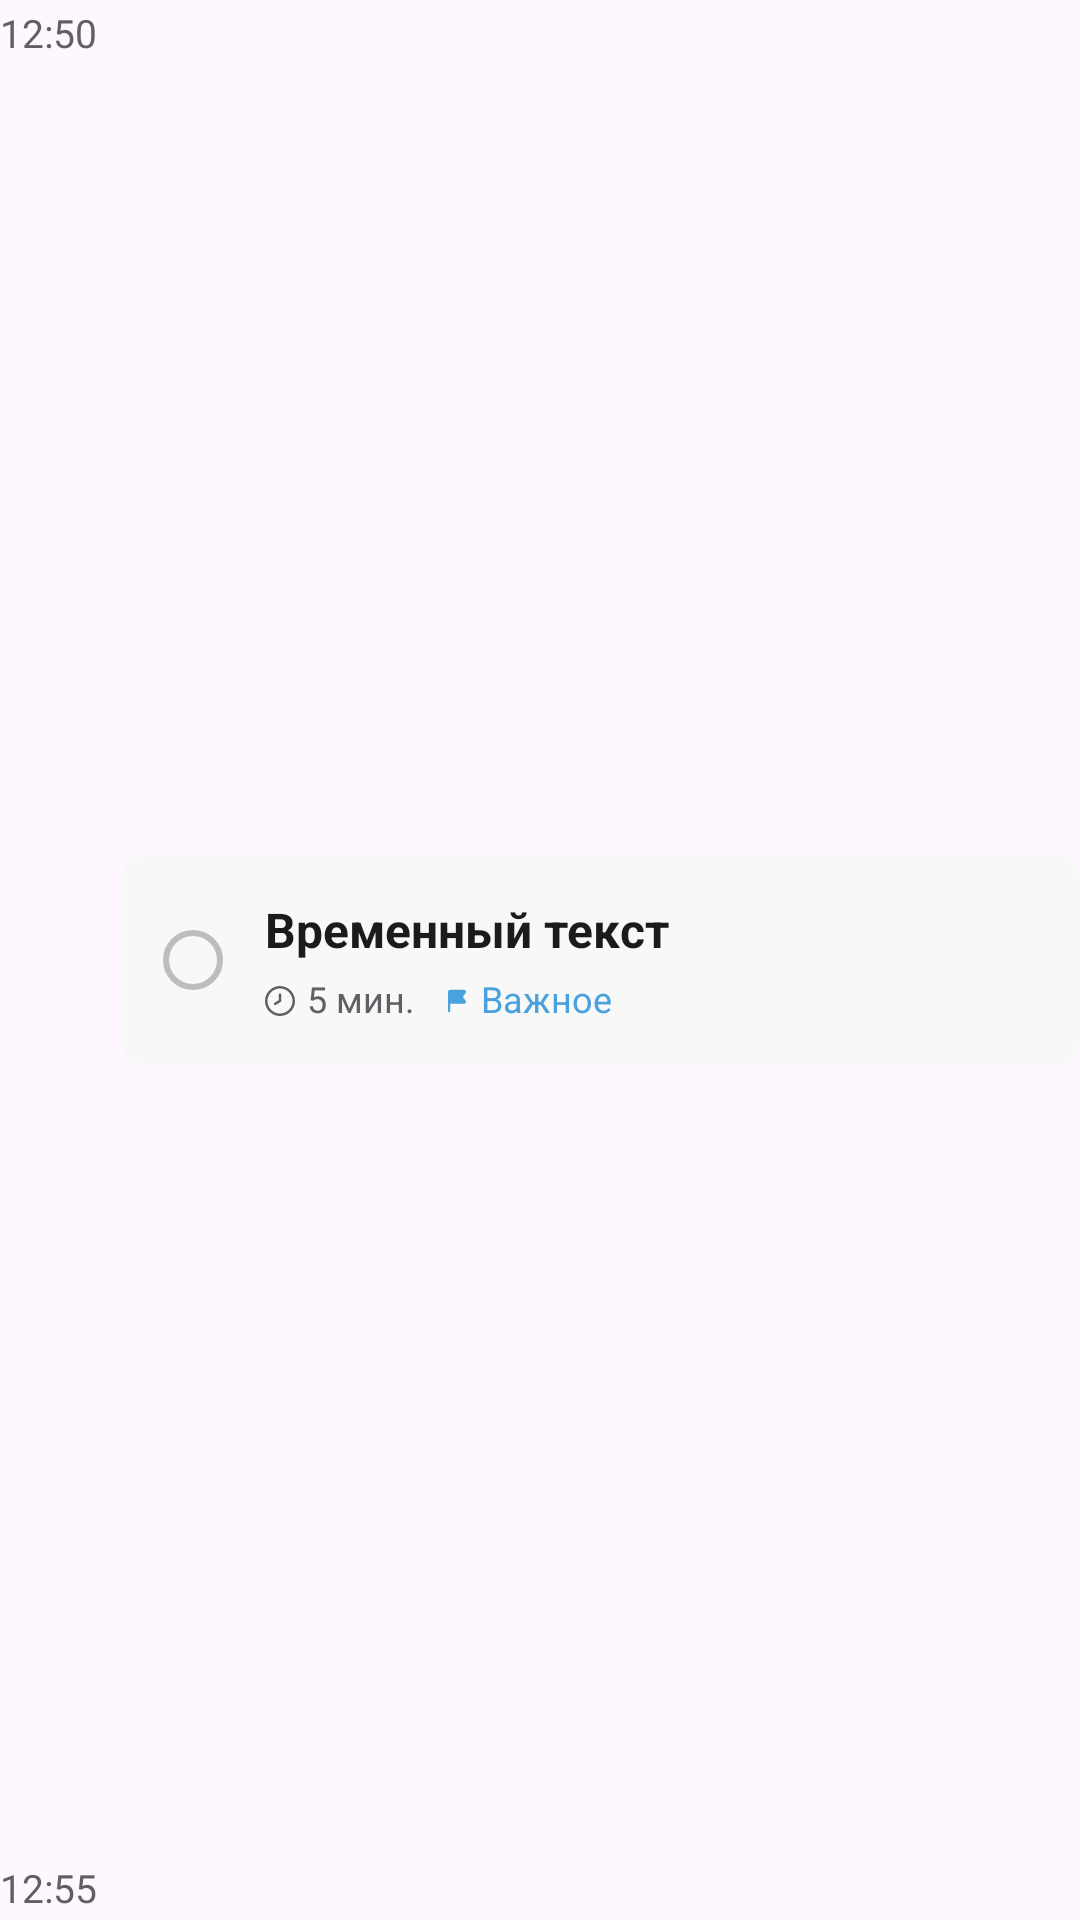

Icons on this 1080 x 1920 Android screen, each with its box as detection(x1, y1, x2, y2):
clock: detection(265, 986, 295, 1016)
